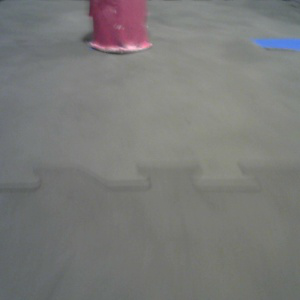middle: (87, 1, 152, 54)
